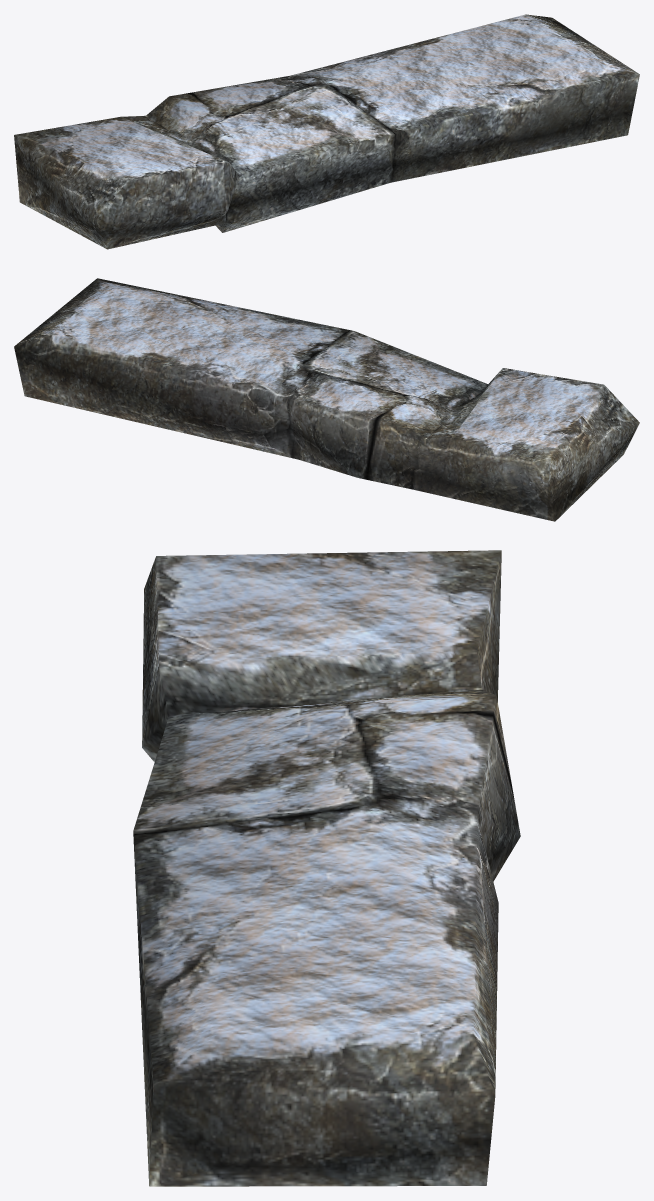
File: Staits1C_LOD.fbx
3 renders of one model, top to bottom at view 1: azimuth 30°, elevation 25°; view 2: azimuth 150°, elevation 25°; view 3: azimuth 270°, elevation 25°, orthographic. The views are drawn at different scales.
Visible parts, largest first — view 1: polySurface27; view 2: polySurface27; view 3: polySurface27.
Part boxes in pixels (<box>): polySurface27: <box>14,14,639,249</box>; polySurface27: <box>14,278,639,521</box>; polySurface27: <box>133,550,520,1186</box>.
Bounding box in the file's own units: 5.4 × 0.8306 × 1.68.
